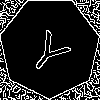Y: (25, 22, 78, 79)
